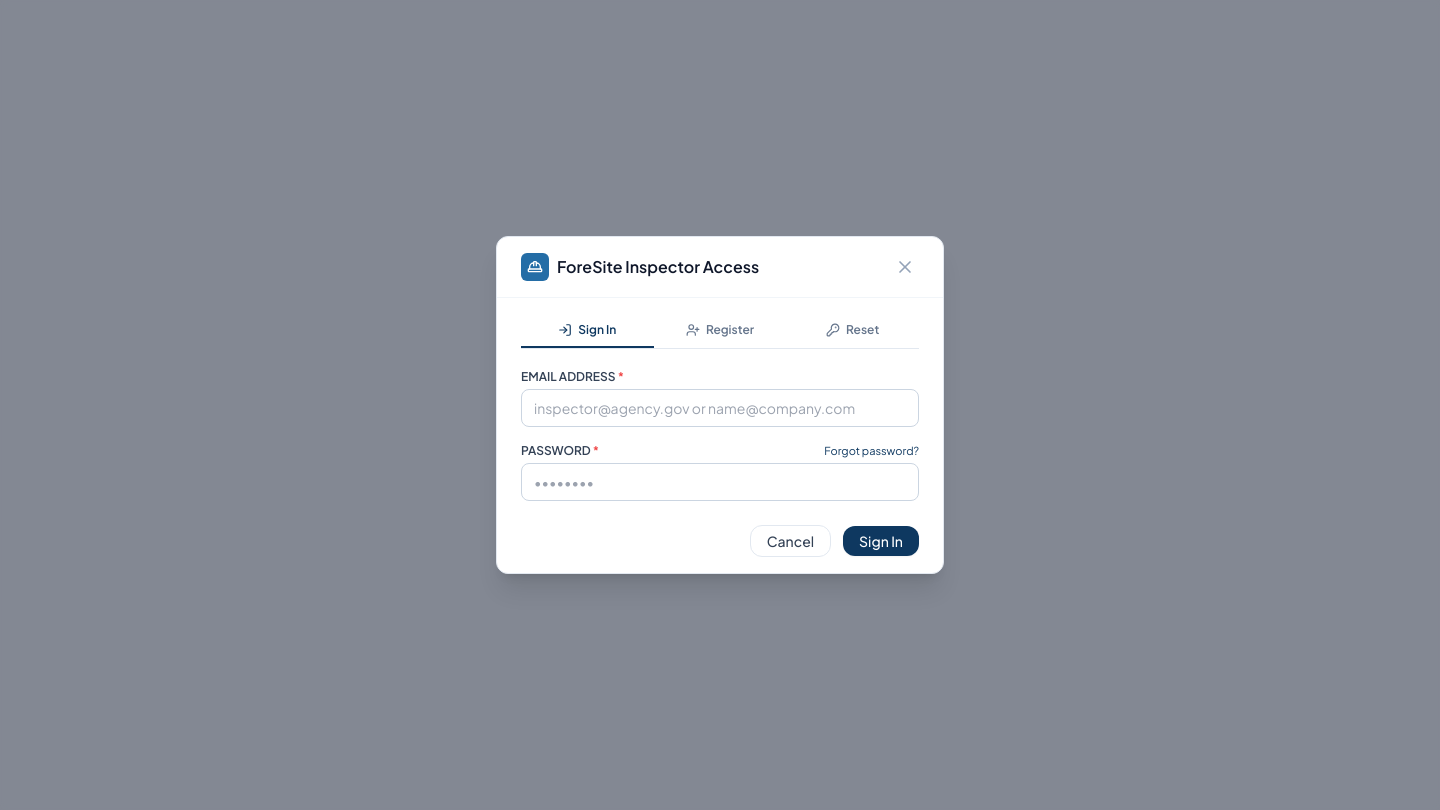
Test: ForeSite Inspector Auth Modal UI › switches to Register tab when clicked and displays inspector name and confirm password fields
Click the button "Register".
click(720, 331)  # box [654, 314, 786, 348]
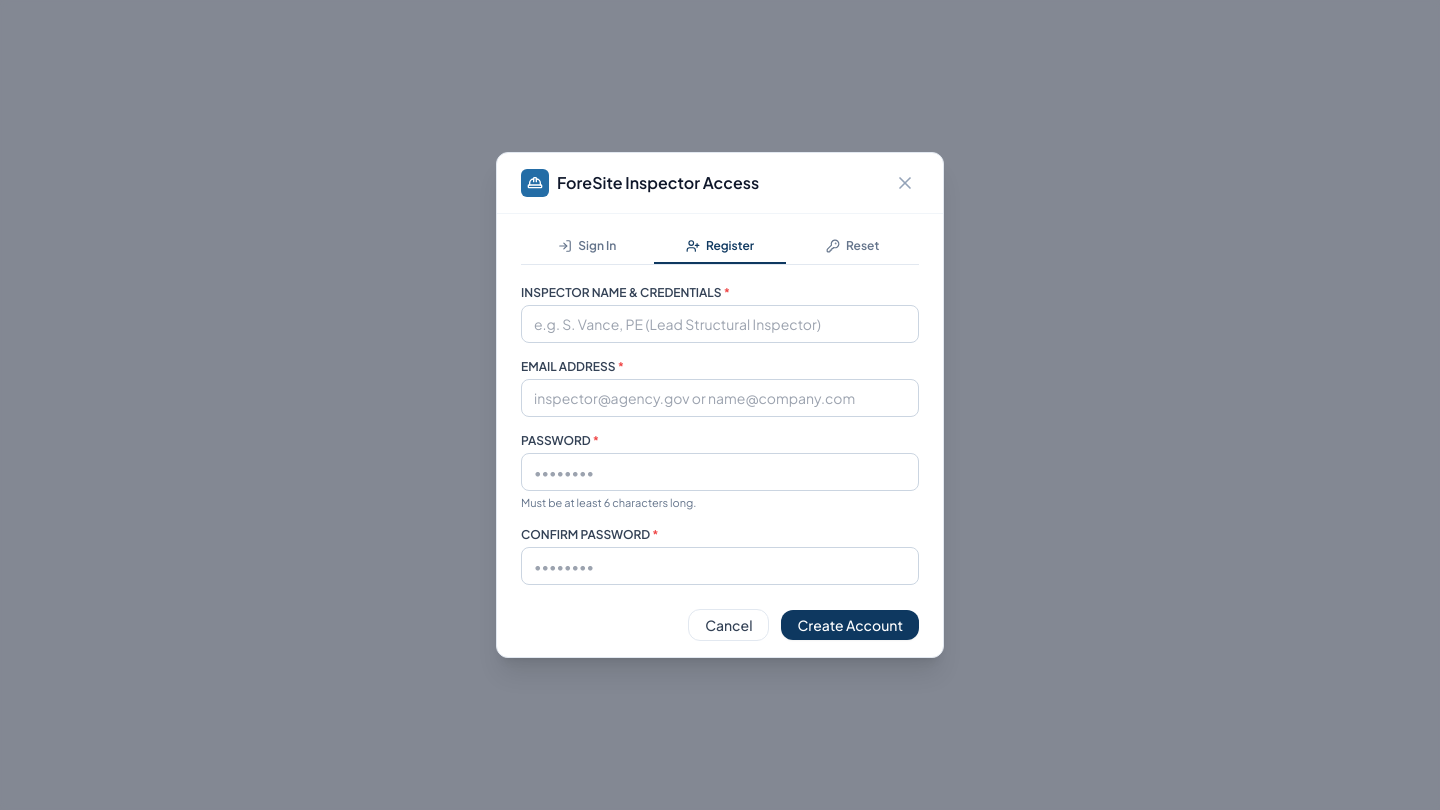
expect the field labelled "Inspector Name & Credentials *" is shown: met, box [521, 305, 919, 343]
expect the password field labelled "Confirm Password *" is shown: met, box [521, 547, 919, 585]
expect the button "Create Account" is shown: met, box [782, 610, 919, 640]
